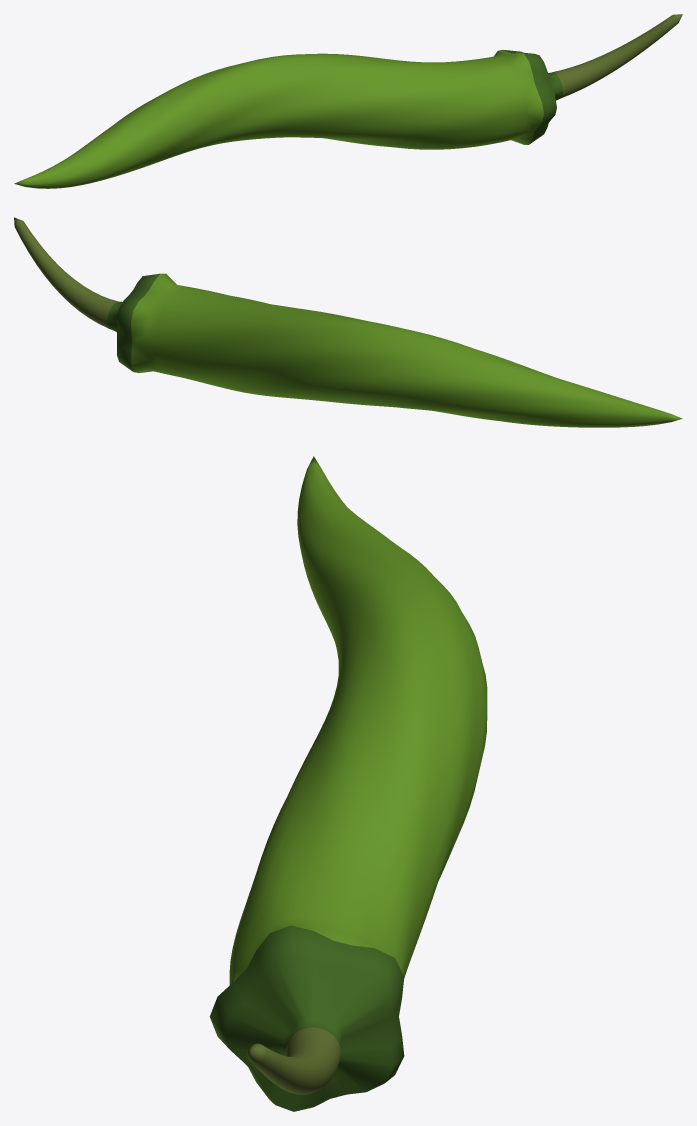
The picture shows the model from 3 angles, top to bottom: view 1: azimuth 30°, elevation 25°; view 2: azimuth 150°, elevation 25°; view 3: azimuth 270°, elevation 25°; orthographic projection. The views are drawn at different scales.
Visible parts, largest first — view 1: NEW315_LongChili_LOD1; view 2: NEW315_LongChili_LOD1; view 3: NEW315_LongChili_LOD1.
Part boxes in pixels (x1,y1,x2,y2): NEW315_LongChili_LOD1: (14, 14, 682, 188); NEW315_LongChili_LOD1: (14, 217, 682, 427); NEW315_LongChili_LOD1: (209, 456, 487, 1111).
Size of the model in its own units: 0.1595 by 0.028 by 0.0293.
